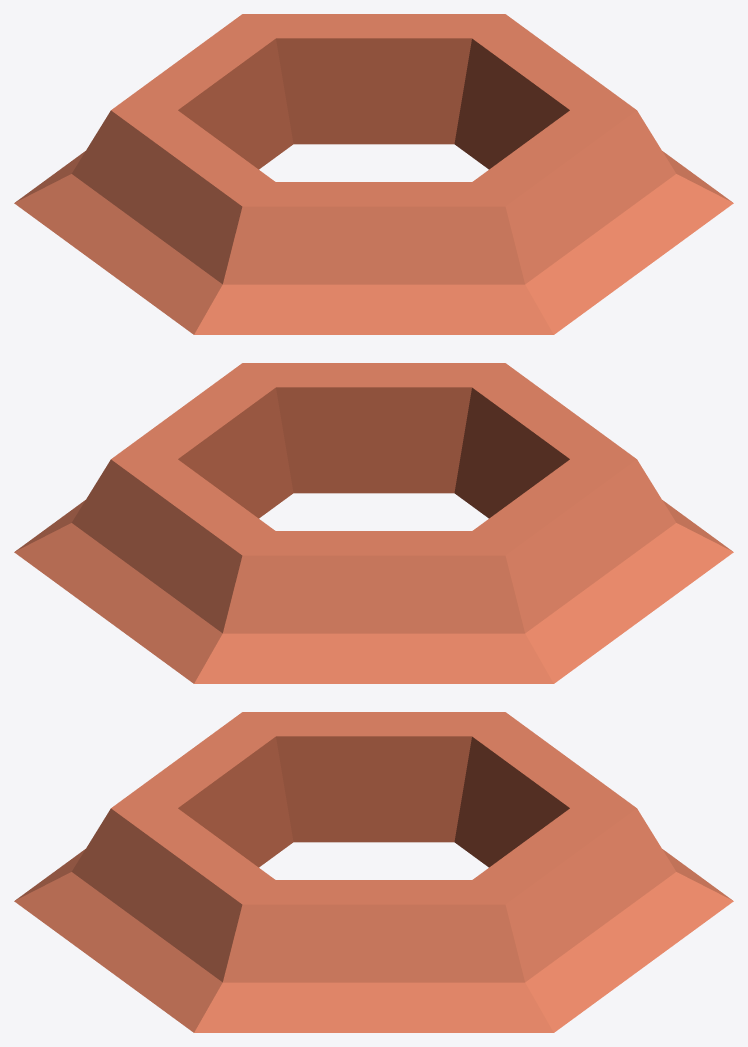
The model's file is k-crater.glb.
3 views of the same model, one above another, from view 1: azimuth 30°, elevation 25°; view 2: azimuth 150°, elevation 25°; view 3: azimuth 270°, elevation 25° (orthographic).
Visible parts, largest first — view 1: crater; view 2: crater; view 3: crater.
Boxes of the visible parts, x1,y1,x2,y2 form: crater: [14, 14, 733, 334]; crater: [14, 363, 733, 683]; crater: [14, 712, 733, 1032].
Size of the model in its own units: 0.715 by 0.1176 by 0.8256.
